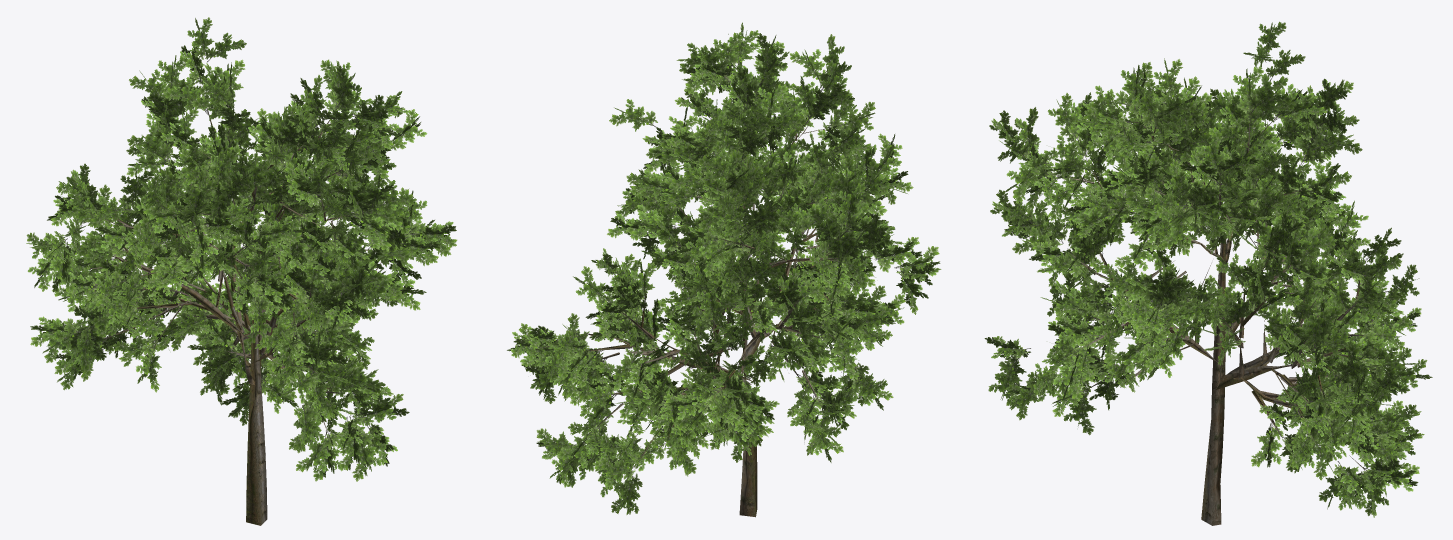
The model's file is tree_01_medium.glb.
The picture shows the model from 3 angles, left to right: view 1: azimuth 30°, elevation 25°; view 2: azimuth 150°, elevation 25°; view 3: azimuth 270°, elevation 25°; orthographic projection. The views are drawn at different scales.
Parts seen in each view (by area): view 1: tree_01; view 2: tree_01; view 3: tree_01.
Boxes of the visible parts, <box> form: tree_01: <box>26,17,457,525</box>; tree_01: <box>507,22,941,517</box>; tree_01: <box>984,21,1432,525</box>.
Bounding box in the file's own units: 10.91 × 13 × 11.09.
Materials: 2 (2 with a texture image).
